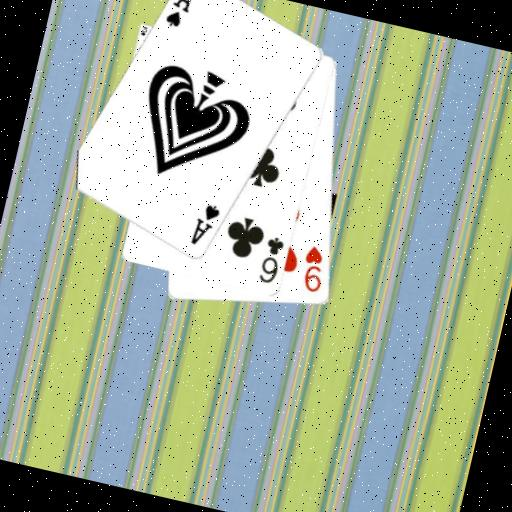6C: (255, 232, 287, 287)
9H: (295, 241, 332, 296)
AS: (187, 199, 224, 251), (161, 0, 198, 32)
